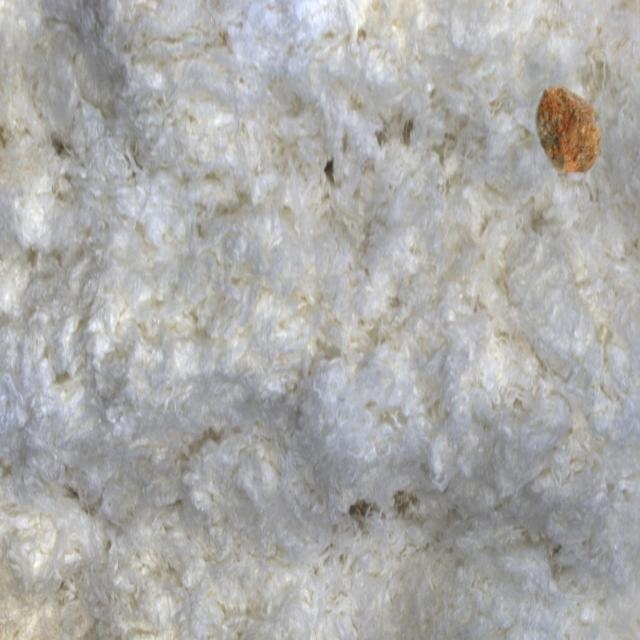dust: (507, 46, 640, 218)
